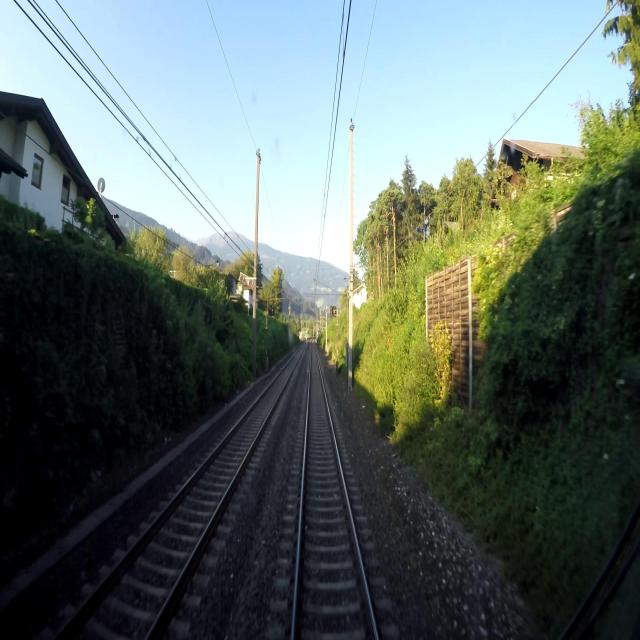rail-track: (56, 351, 300, 639), (295, 344, 375, 639)
